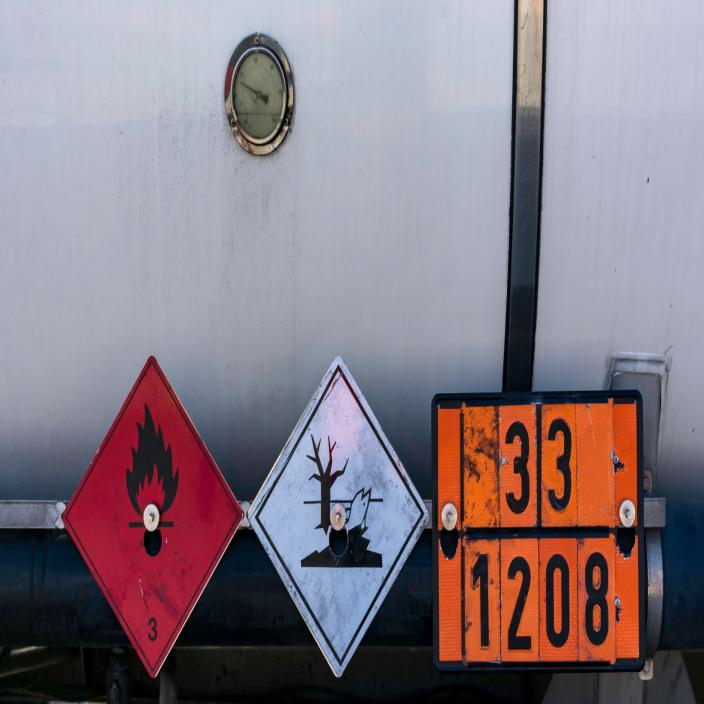can and bottle trash cans: (62, 357, 243, 676)
